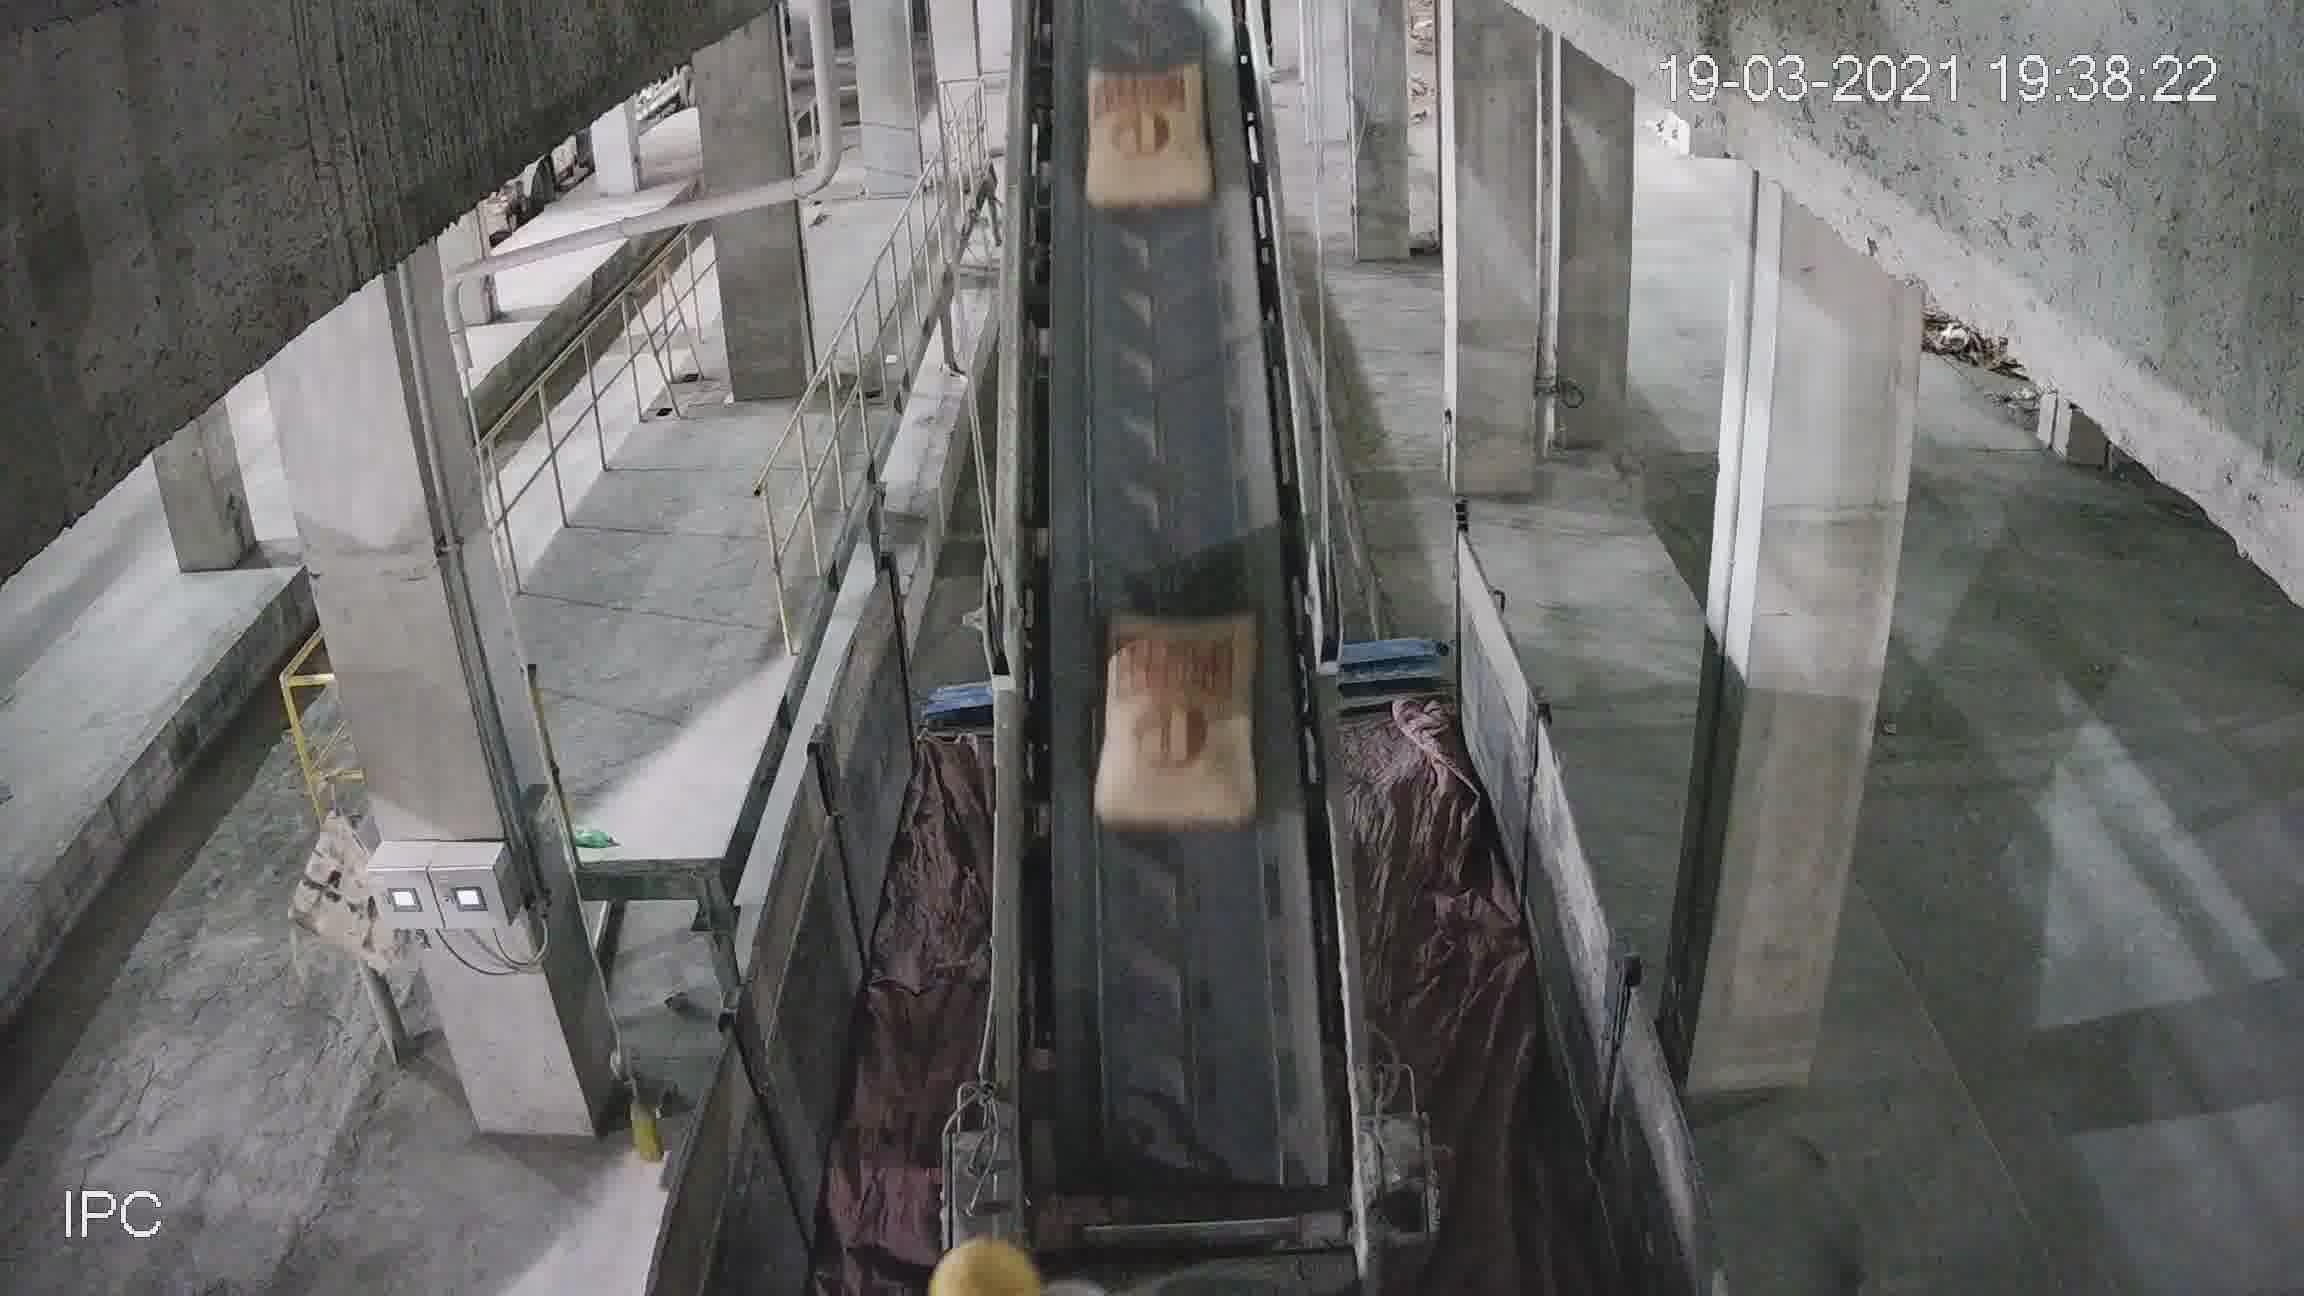bag: (1097, 612, 1256, 832), (1082, 70, 1207, 210)
belt: (994, 17, 1337, 1253)
